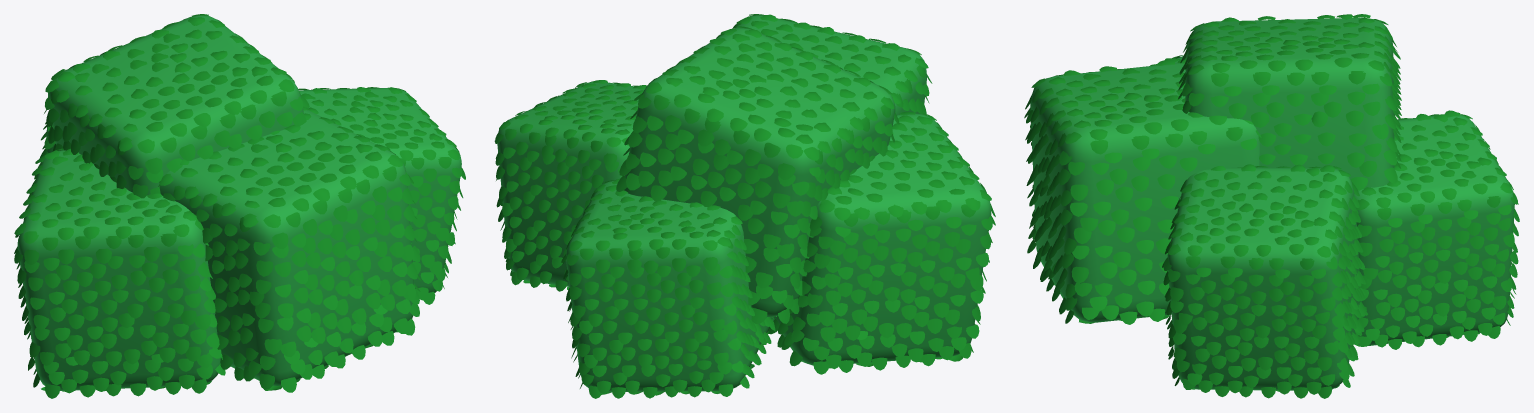
The model's file is TreeLeaf.fbx.
3 renders of one model, left to right at view 1: azimuth 30°, elevation 25°; view 2: azimuth 150°, elevation 25°; view 3: azimuth 270°, elevation 25°, orthographic. The views are drawn at different scales.
Visible parts, largest first — view 1: Leaf_Geo.003, TreeCube_Geo.003, Leaf_Geo, TreeCube_Geo, TreeCube_Geo.004, Leaf_Geo.004, Leaf_Geo.001, TreeCube_Geo.001; view 2: Leaf_Geo.004, Leaf_Geo, TreeCube_Geo.004, Leaf_Geo.002, TreeCube_Geo, TreeCube_Geo.002, Leaf_Geo.001, TreeCube_Geo.001, TreeCube_Geo.003, Leaf_Geo.003; view 3: Leaf_Geo.001, TreeCube_Geo.003, TreeCube_Geo.001, Leaf_Geo.003, Leaf_Geo.002, TreeCube_Geo.004, TreeCube_Geo.002, Leaf_Geo.004.
Part boxes in pixels (<box>): Leaf_Geo.003: <box>158,106,421,392</box>; TreeCube_Geo.003: <box>159,110,413,385</box>; Leaf_Geo: <box>14,148,225,398</box>; TreeCube_Geo: <box>17,150,220,390</box>; TreeCube_Geo.004: <box>48,15,303,194</box>; Leaf_Geo.004: <box>44,14,309,198</box>; Leaf_Geo.001: <box>298,87,465,304</box>; TreeCube_Geo.001: <box>299,87,461,292</box>; Leaf_Geo.004: <box>616,26,899,323</box>; Leaf_Geo: <box>768,111,995,374</box>; TreeCube_Geo.004: <box>624,28,895,316</box>; Leaf_Geo.002: <box>561,178,776,398</box>; TreeCube_Geo: <box>772,113,991,365</box>; TreeCube_Geo.002: <box>566,181,772,391</box>; Leaf_Geo.001: <box>494,80,646,291</box>; TreeCube_Geo.001: <box>497,81,644,286</box>; TreeCube_Geo.003: <box>734,15,926,115</box>; Leaf_Geo.003: <box>732,14,932,115</box>; Leaf_Geo.001: <box>1162,164,1367,398</box>; TreeCube_Geo.003: <box>1030,63,1259,322</box>; TreeCube_Geo.001: <box>1167,167,1361,390</box>; Leaf_Geo.003: <box>1024,59,1261,324</box>; Leaf_Geo.002: <box>1354,110,1519,349</box>; TreeCube_Geo.004: <box>1185,17,1395,188</box>; TreeCube_Geo.002: <box>1354,114,1514,345</box>; Leaf_Geo.004: <box>1178,14,1401,190</box>.
Bounding box in the file's own units: 545 × 319 × 514.
